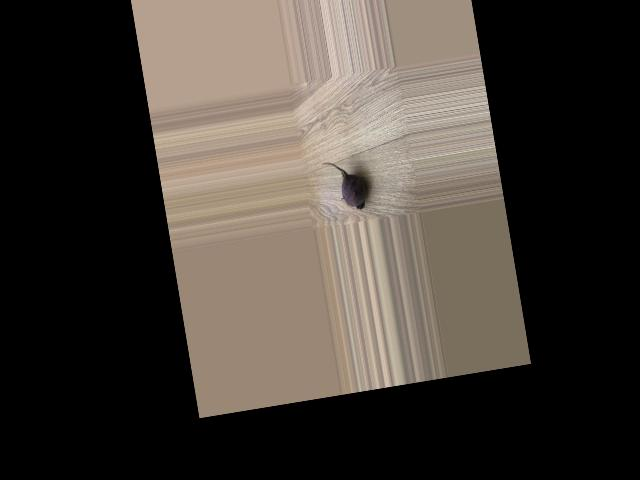beet: (322, 155, 368, 213)
